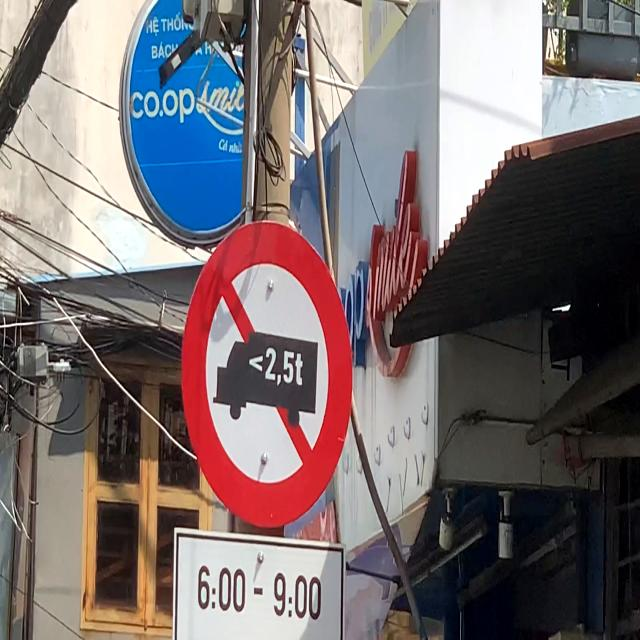P.106b: (182, 209, 354, 525)
